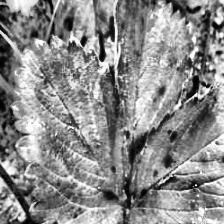Leaf Spot: (10, 34, 128, 224), (111, 0, 197, 178), (127, 77, 224, 223)
